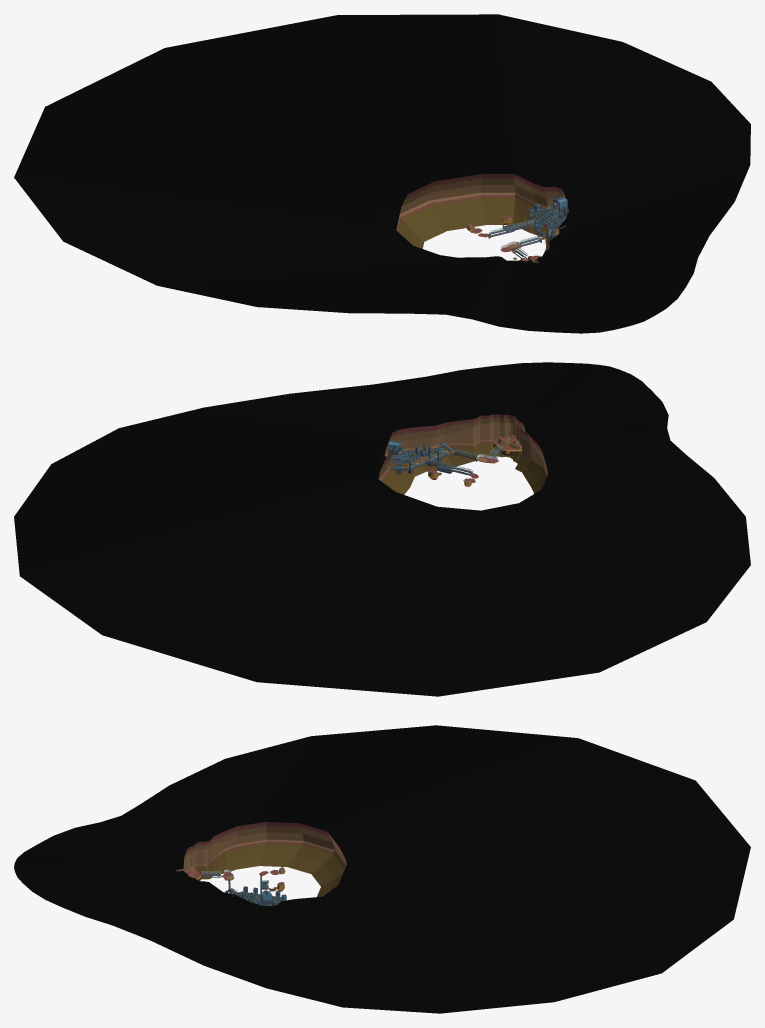
File: trainingCave_new.glb
The picture shows the model from 3 angles, top to bottom: view 1: azimuth 30°, elevation 25°; view 2: azimuth 150°, elevation 25°; view 3: azimuth 270°, elevation 25°; orthographic projection. The views are drawn at different scales.
Parts seen in each view (by area): view 1: WallUpper, WallLower, Ground, Bridges.001; view 2: WallUpper, WallLower, Ground, Bridges.001; view 3: WallUpper, WallLower, Ground.
Boxes of the visible parts, box(x1,y1,x2,y2) form: WallUpper: box(14, 14, 750, 333); WallLower: box(398, 197, 567, 255); Ground: box(467, 196, 567, 263); Bridges.001: box(488, 219, 545, 258); WallUpper: box(14, 362, 750, 696); WallLower: box(382, 442, 546, 494); Ground: box(388, 436, 521, 486); Bridges.001: box(425, 444, 504, 475); WallUpper: box(14, 725, 750, 1013); WallLower: box(194, 843, 344, 896); Ground: box(185, 866, 286, 906).
Size of the model in its own units: 725 by 48.72 by 783.
Materials: 13 (11 with a texture image).
